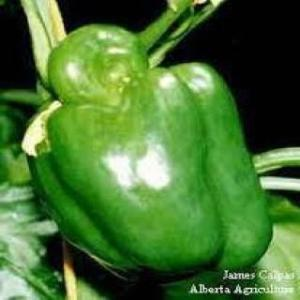bell_pepper: (8, 28, 280, 280)
